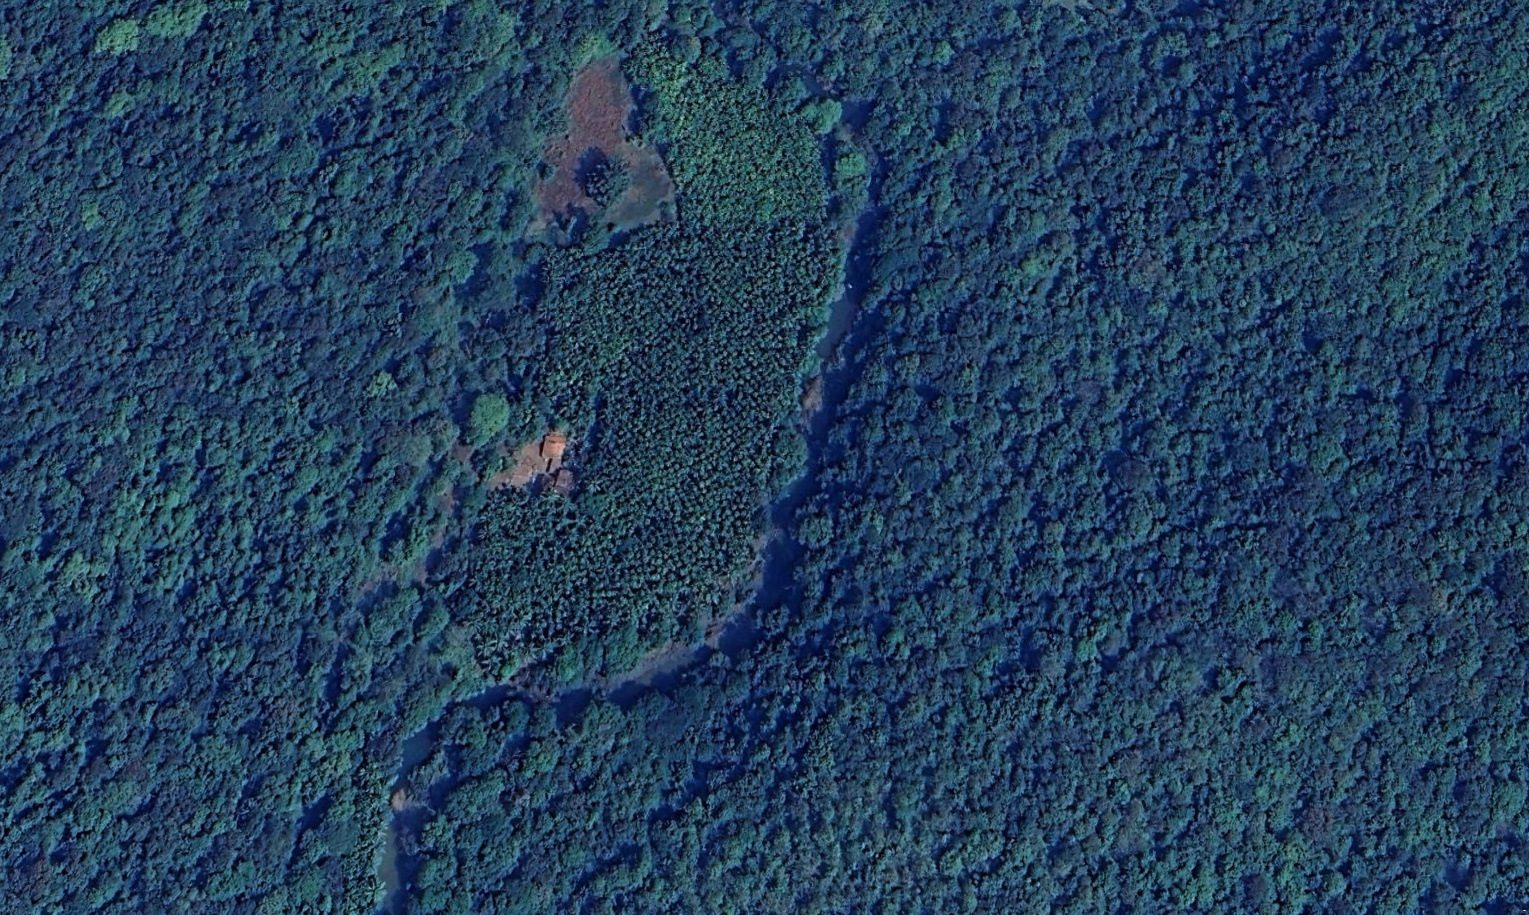arecanut: (470, 37, 846, 661)
